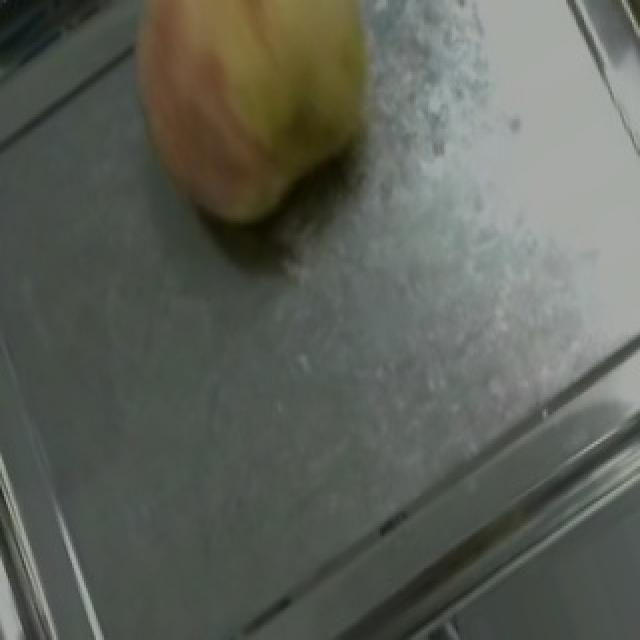Fruit: (88, 0, 418, 265)
